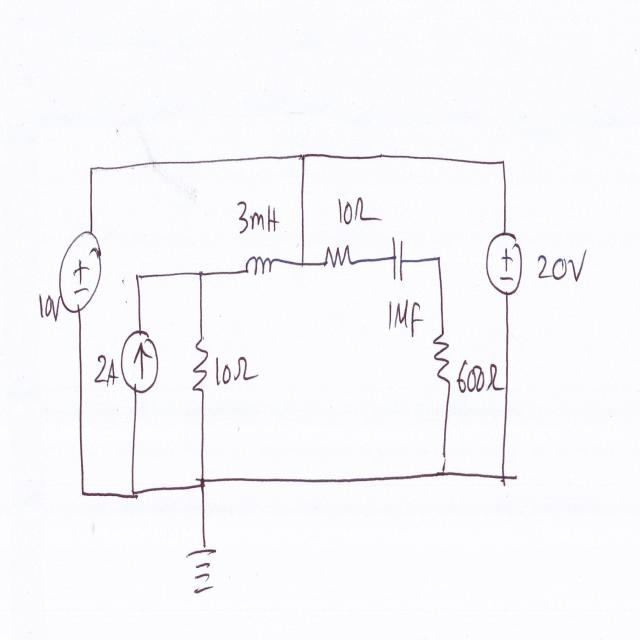capacitor: (387, 226, 408, 285)
current_source: (120, 323, 162, 399)
ground: (182, 538, 222, 601)
inductor: (241, 246, 275, 283)
resistor: (430, 322, 456, 394), (190, 323, 210, 403), (319, 239, 359, 272)
voltage_source: (58, 221, 104, 317), (481, 221, 524, 303)
